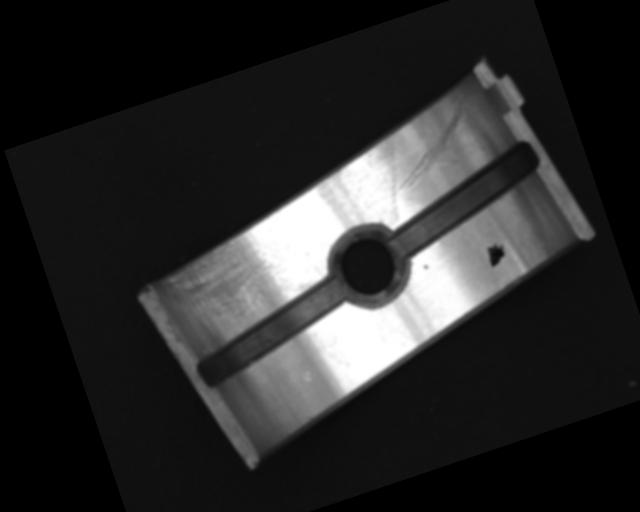blot: (484, 240, 509, 268)
bruise: (300, 368, 313, 383), (423, 264, 429, 270)
gap: (370, 139, 556, 263), (181, 274, 361, 390)
hole: (320, 215, 416, 316)
nick: (366, 89, 492, 200)
scratch: (151, 217, 321, 343)
